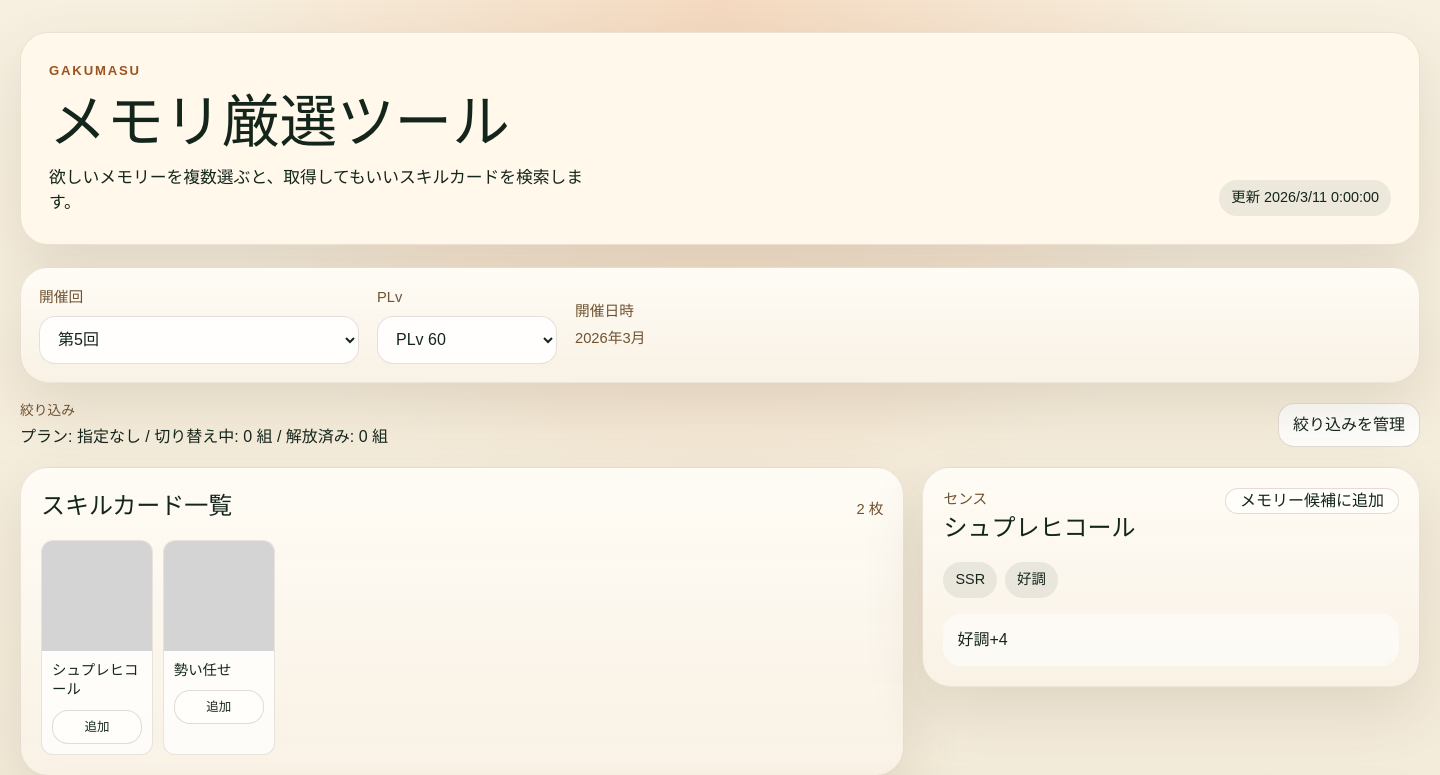
Test: AppShell › enforces customization limits by the total tier count and cycles to the next valid state
Click the button with aria-label "勢い任せを候補に追加" at (219, 648), box [163, 540, 275, 755]
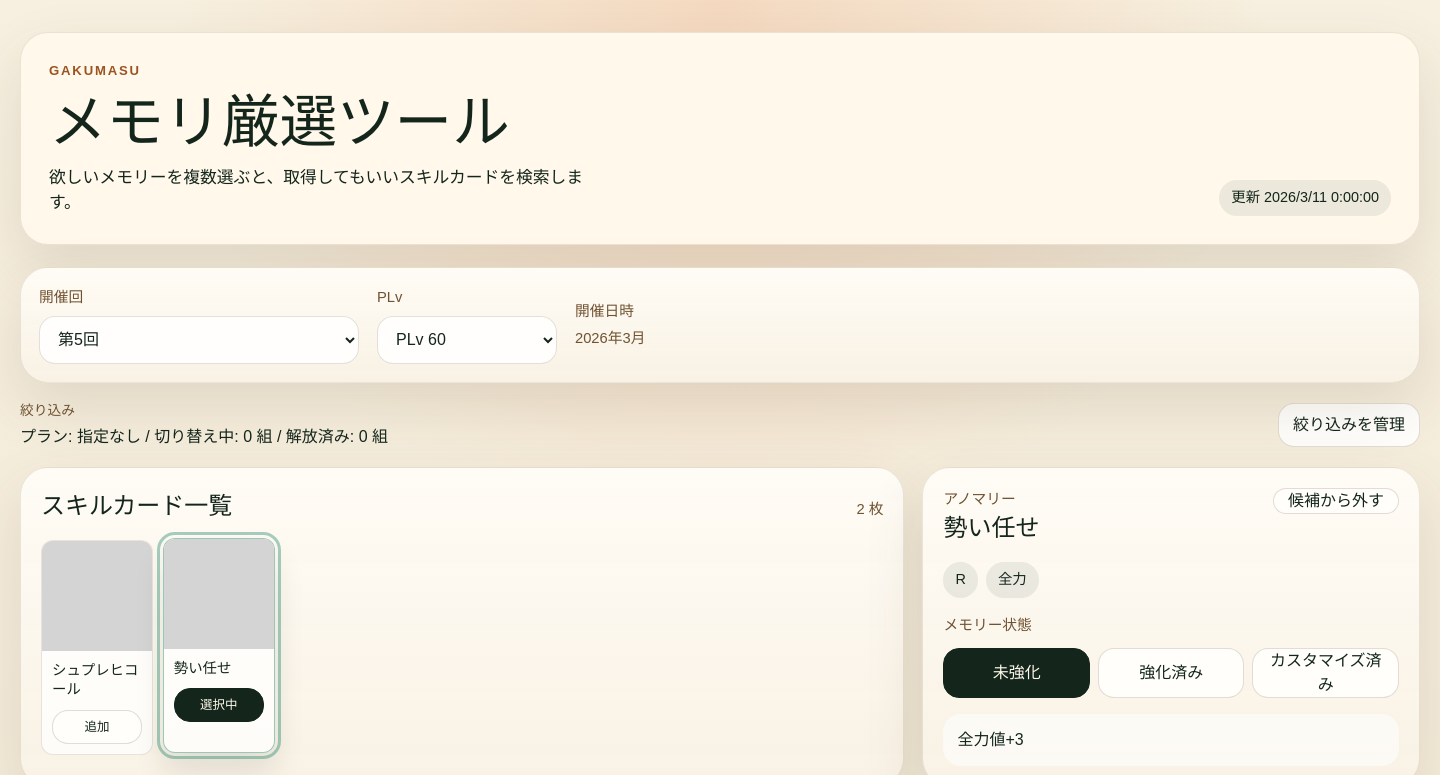
Click the button "カスタマイズ済み" at (1326, 673), box [1252, 648, 1399, 698]
(page scrolled)
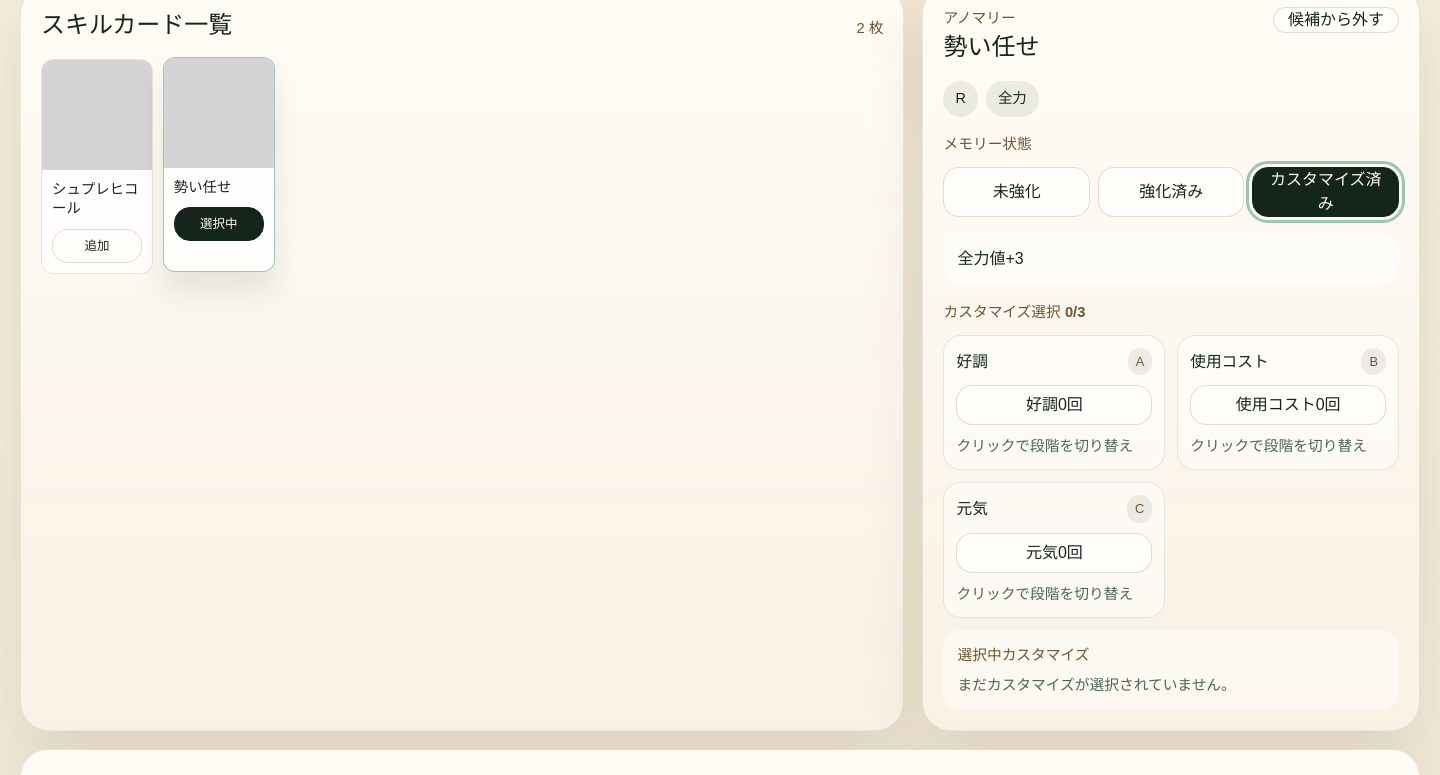
Click the button "好調0回" at (1054, 405), box [956, 385, 1152, 425]
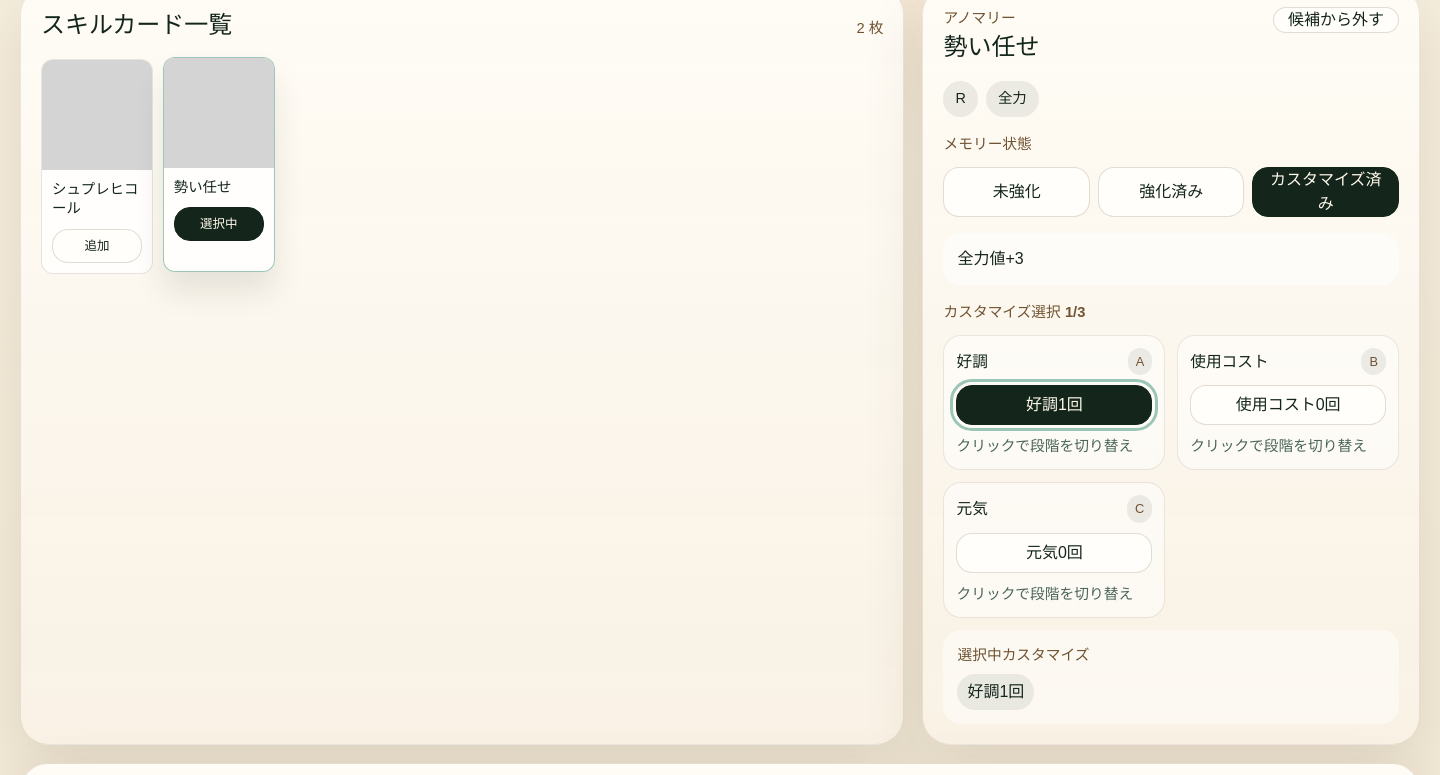
Click the button "好調1回" at (1054, 405), box [956, 385, 1152, 425]
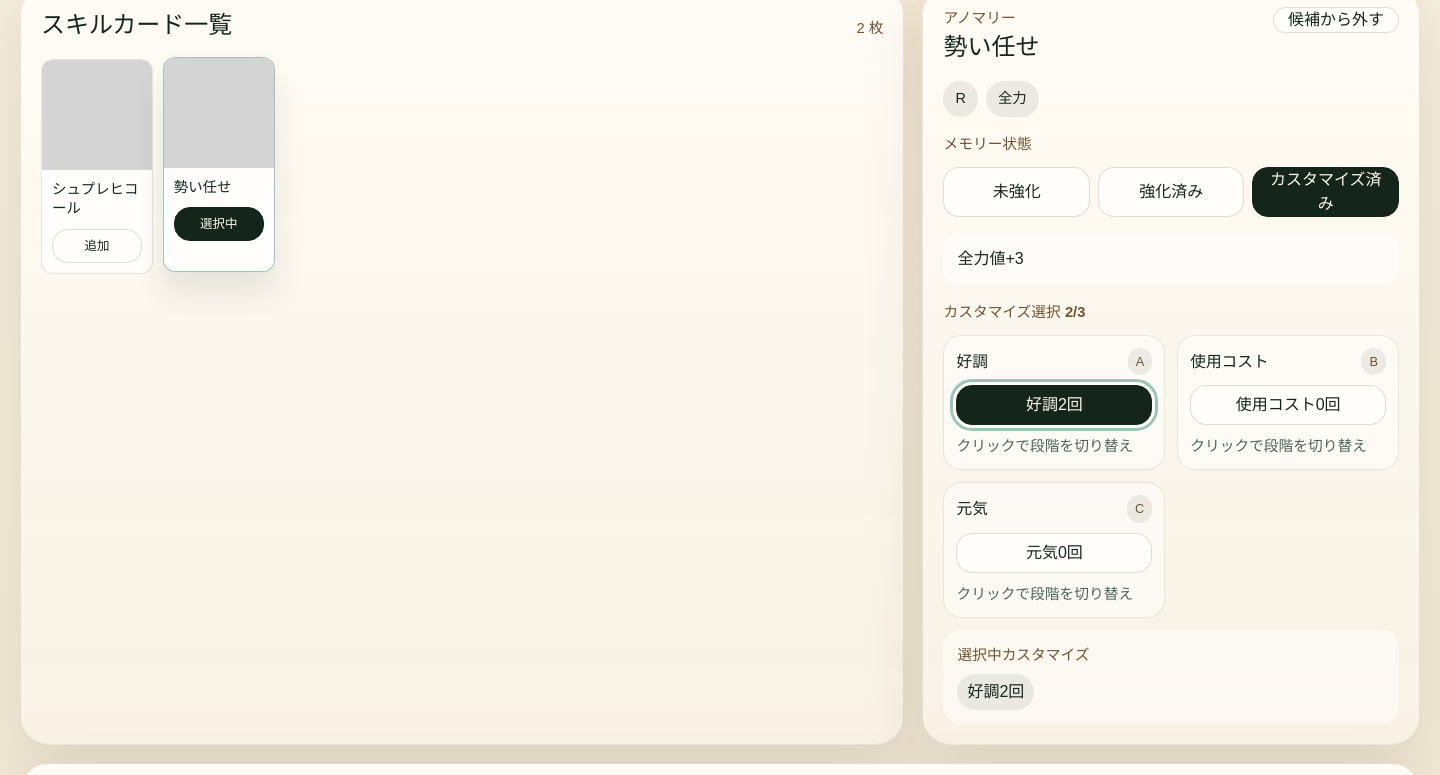
Expected: the number of buttons "好調2回" is 2, [956, 385, 1152, 425]; [958, 674, 1034, 710]
Expected: the text "カスタマイズ選択 2/3" is shown, [944, 301, 1085, 323]
Click the button "使用コスト0回" at (1288, 405), box [1190, 385, 1386, 425]
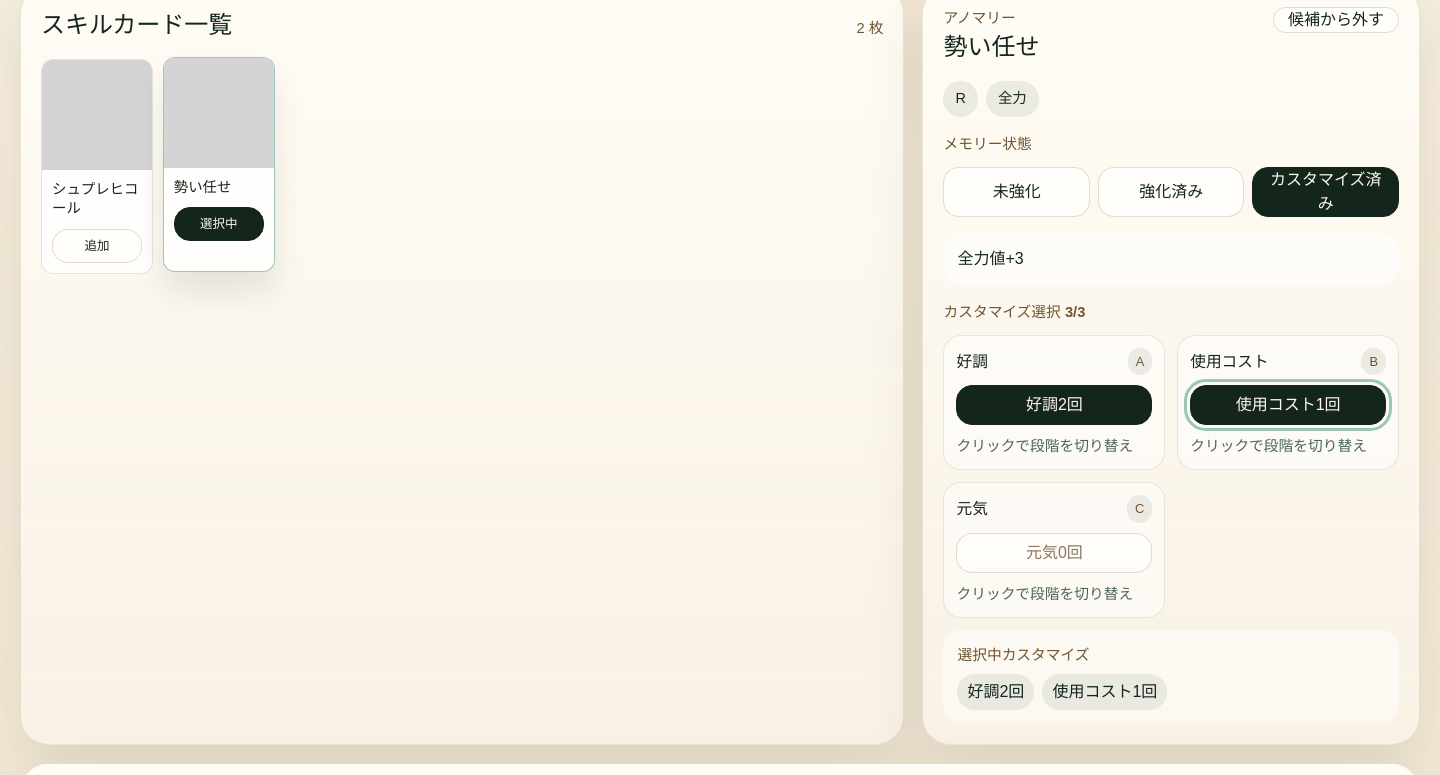
Expected: the number of buttons "使用コスト1回" is 2, [1190, 385, 1386, 425]; [1042, 674, 1167, 710]
Expected: the text "カスタマイズ選択 3/3" is shown, [944, 301, 1085, 323]
Expected: the button "元気0回" is disabled, [956, 532, 1152, 572]
Click the button "好調2回" at (1054, 405), box [956, 385, 1152, 425]
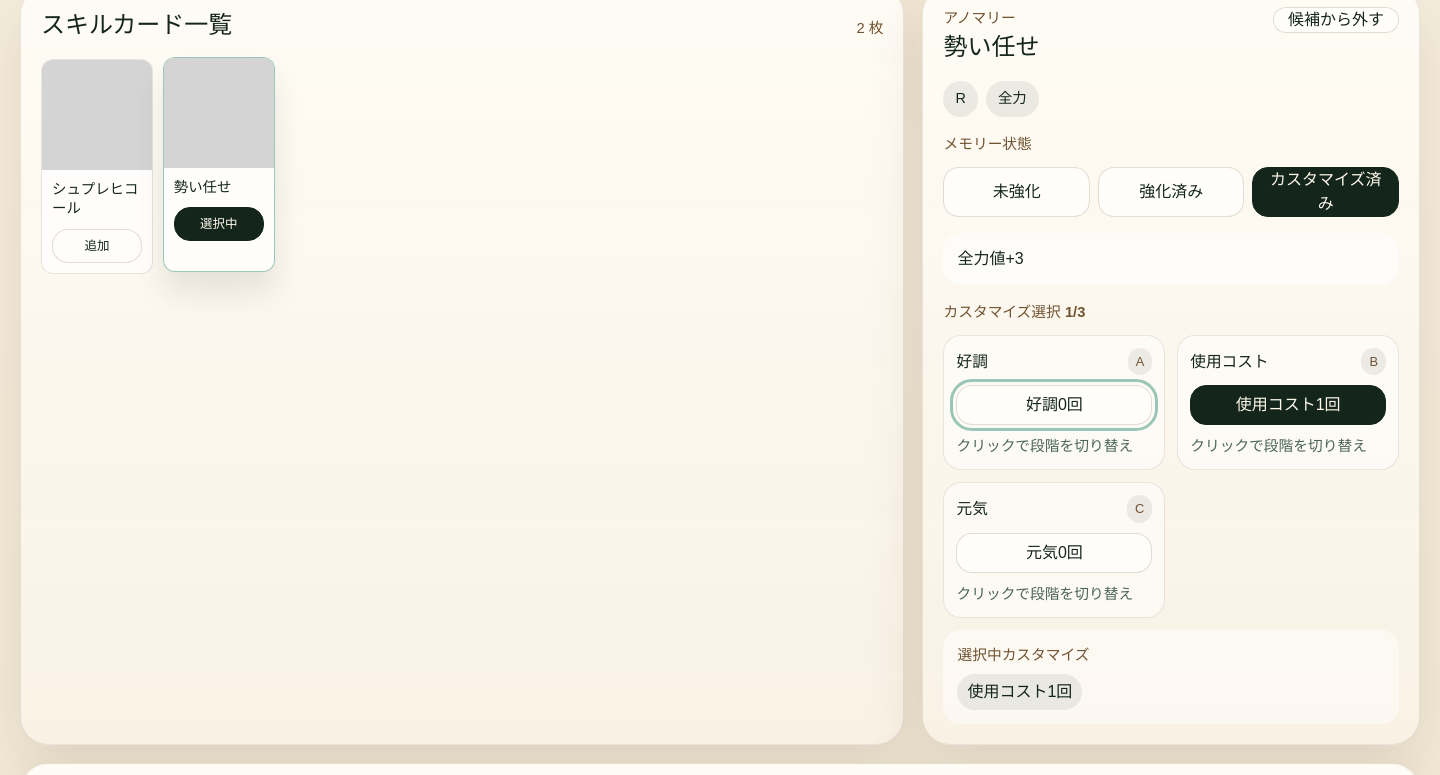
Expected: the text "カスタマイズ選択 1/3" is shown, [944, 301, 1085, 323]
Expected: the button "元気0回" is enabled, [956, 532, 1152, 572]
